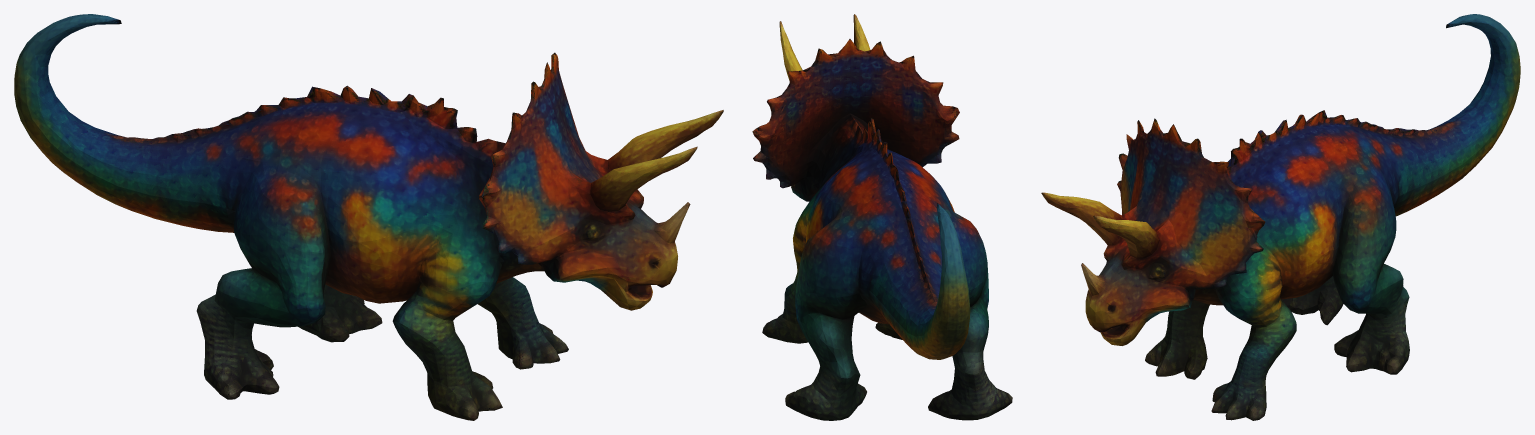
Rendered from fire-frilled_three-horned_face_-_dinosaur.glb.
3 renders of one model, left to right at view 1: azimuth 30°, elevation 25°; view 2: azimuth 150°, elevation 25°; view 3: azimuth 270°, elevation 25°, orthographic. The views are drawn at different scales.
Visible parts, largest first — view 1: Object_4; view 2: Object_4; view 3: Object_4.
Part boxes in pixels (x1,y1,x2,y2): Object_4: (14,14,723,420); Object_4: (752,14,1012,420); Object_4: (1041,14,1520,420).
Bounding box in the file's own units: 0.7387 × 0.4988 × 0.7811.
Materials: 1 (1 with a texture image).
